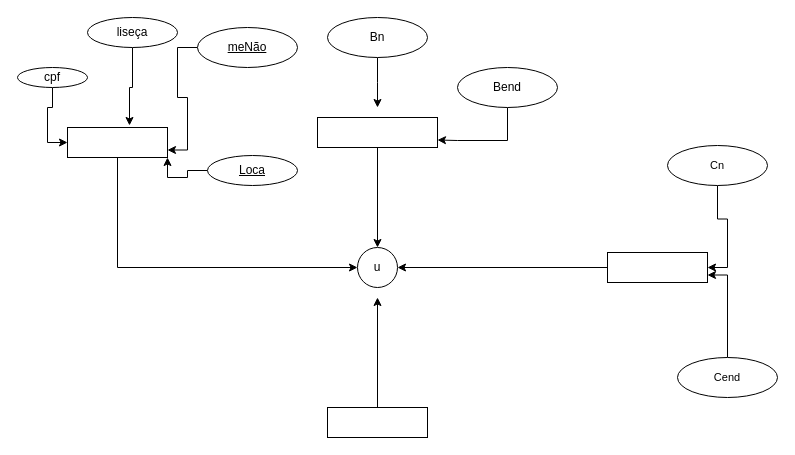
This 795x455 diagram has some shape labels left out. Here are the shapes that lost their labels. From the top down, the box of each, then its label:
(66, 126, 168, 158): pessoa
(316, 116, 438, 148): banco
(606, 252, 708, 282): compania
(326, 406, 428, 438): Ow
